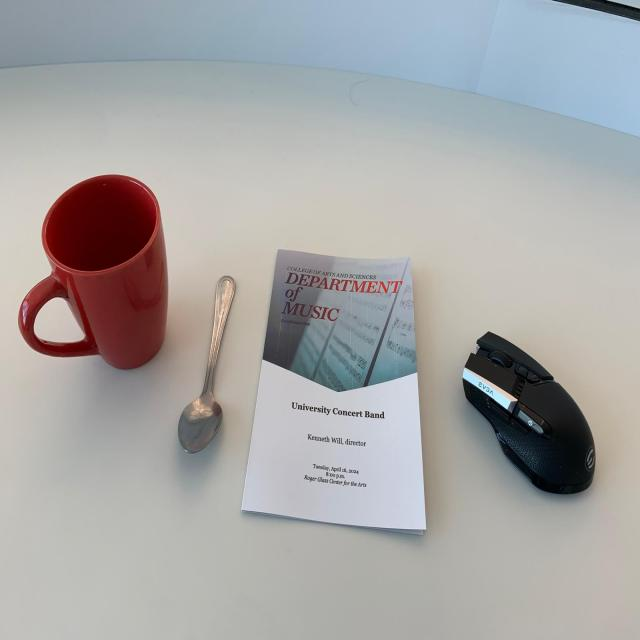Cup: (15, 166, 182, 404)
Mouse: (446, 302, 608, 507)
Spoon: (164, 267, 252, 462)
